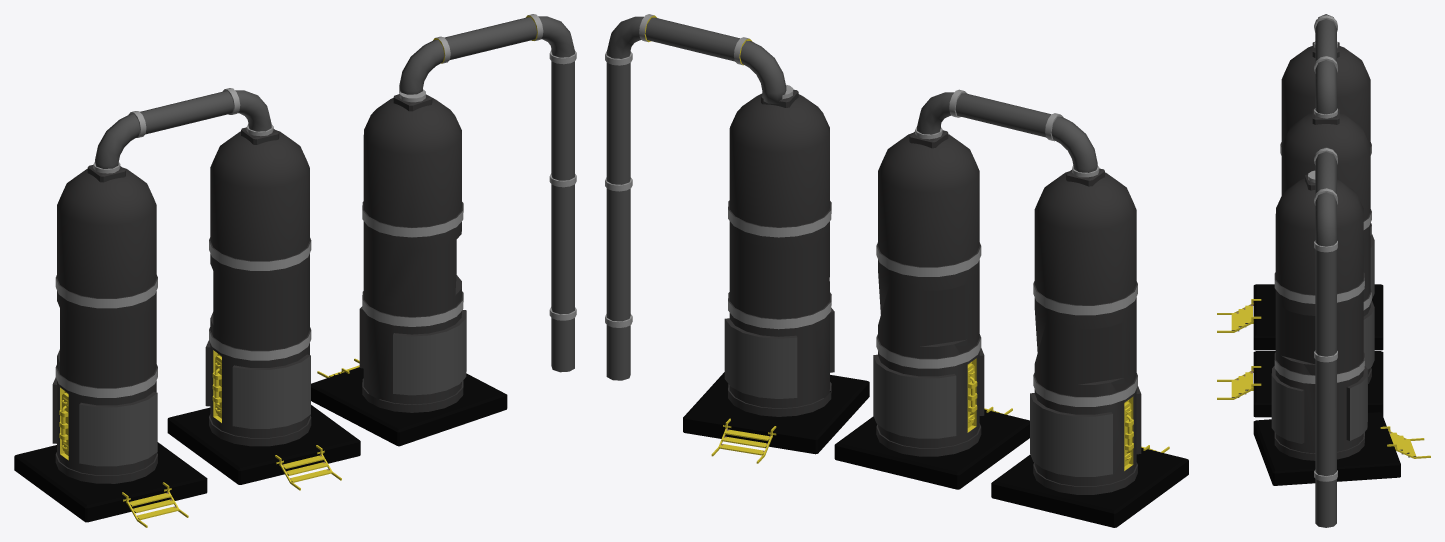
The model's file is Oil_Tank.fbx.
The picture shows the model from 3 angles, left to right: view 1: azimuth 30°, elevation 25°; view 2: azimuth 150°, elevation 25°; view 3: azimuth 270°, elevation 25°; orthographic projection. The views are drawn at different scales.
Parts seen in each view (by area): view 1: Oil_Tank; view 2: Oil_Tank; view 3: Oil_Tank.
Part boxes in pixels (left/top/right/bottom): Oil_Tank: left=14, top=14, right=576, bottom=527; Oil_Tank: left=605, top=14, right=1188, bottom=527; Oil_Tank: left=1217, top=14, right=1430, bottom=527.
Bounding box in the file's own units: 1954 × 1266 × 764.
1 material, 1 textured.
